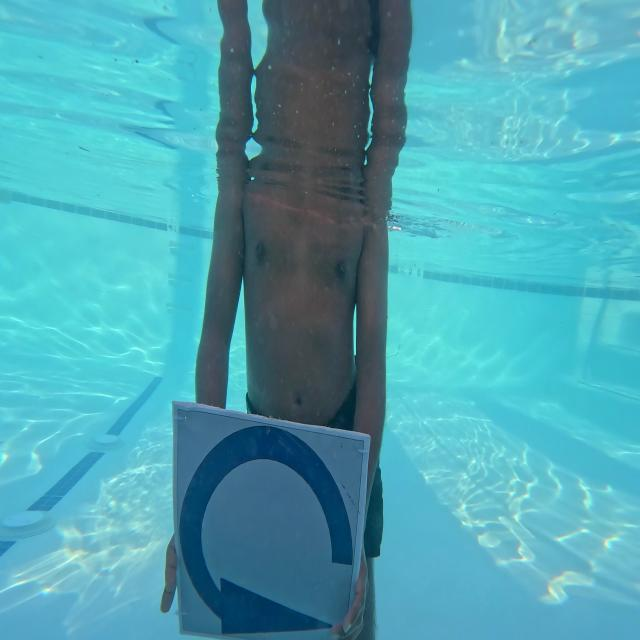blue_side: (172, 419, 368, 640)
